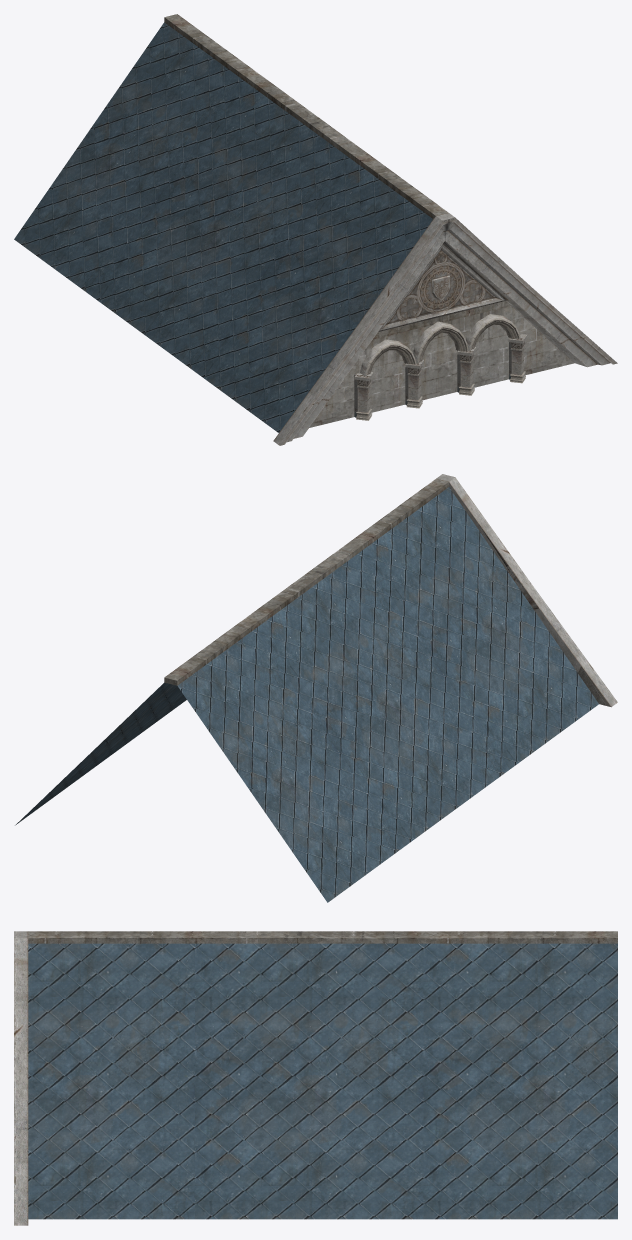
The model's file is bg_lut_lucastle_churchroof03_sm_ksh.FBX.
The picture shows the model from 3 angles, top to bottom: view 1: azimuth 30°, elevation 25°; view 2: azimuth 150°, elevation 25°; view 3: azimuth 270°, elevation 25°; orthographic projection. The views are drawn at different scales.
Visible parts, largest first — view 1: bg_lut_lucastle_churchroof03_sm_ksh; view 2: bg_lut_lucastle_churchroof03_sm_ksh; view 3: bg_lut_lucastle_churchroof03_sm_ksh.
Boxes of the visible parts, bbox=[...] form: bg_lut_lucastle_churchroof03_sm_ksh: bbox=[14, 14, 617, 445]; bg_lut_lucastle_churchroof03_sm_ksh: bbox=[15, 474, 617, 902]; bg_lut_lucastle_churchroof03_sm_ksh: bbox=[14, 931, 617, 1225].
Size of the model in its own units: 709 by 372 by 1010.
